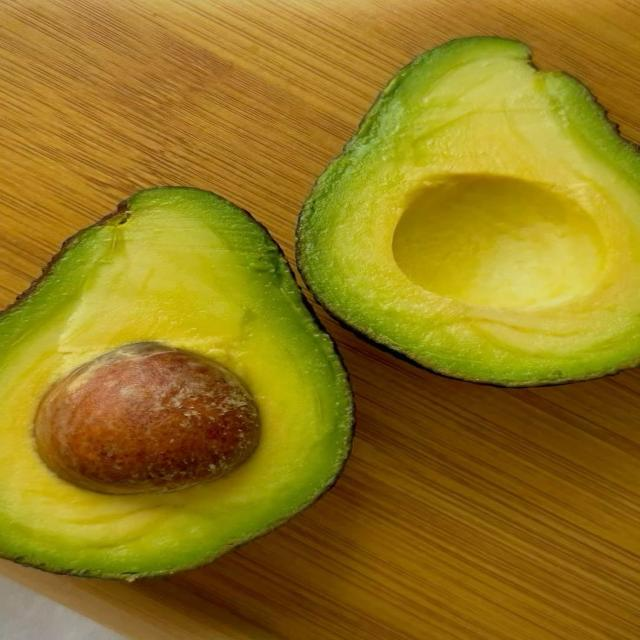avocado: (0, 188, 352, 579), (298, 38, 639, 386)
